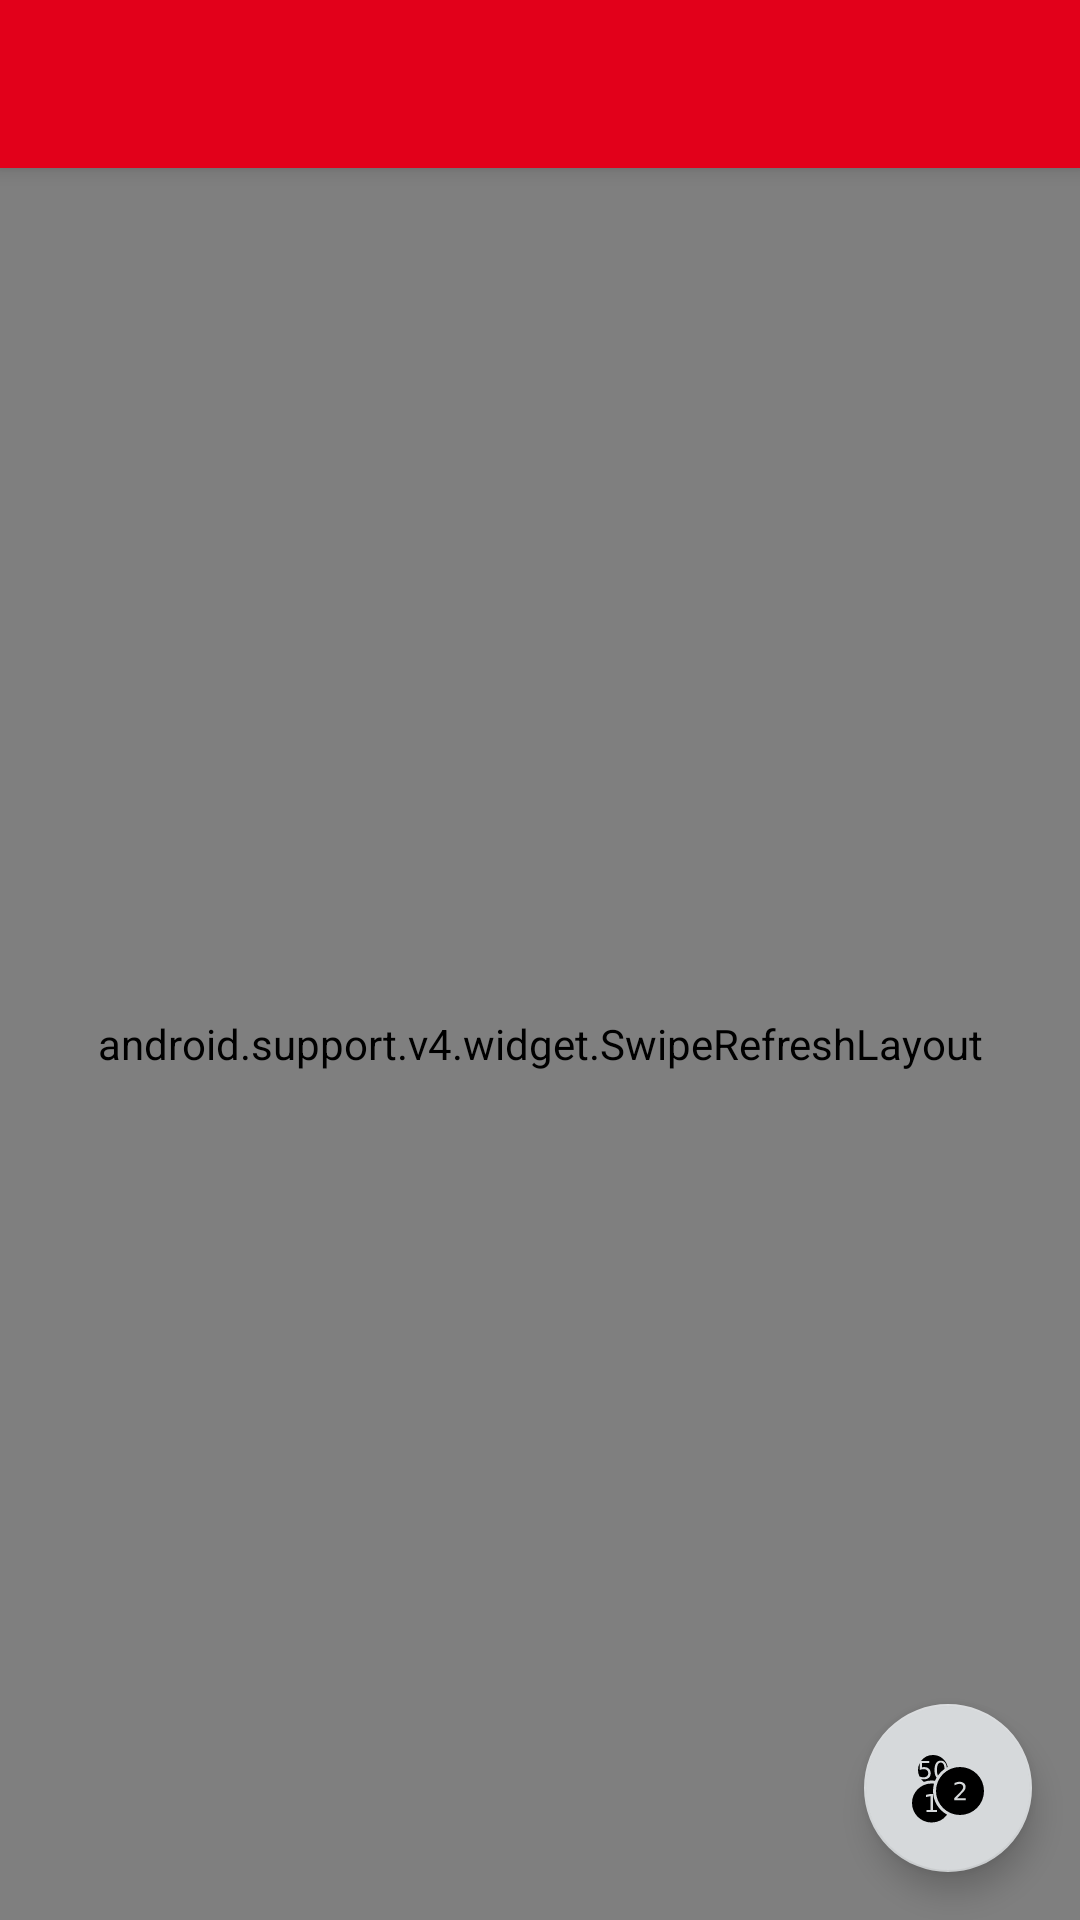

Where icons sit on this 1080 × 1920 app screen, as BBox(x1, y1, x2, y2):
geld: BBox(864, 1704, 1032, 1872)
